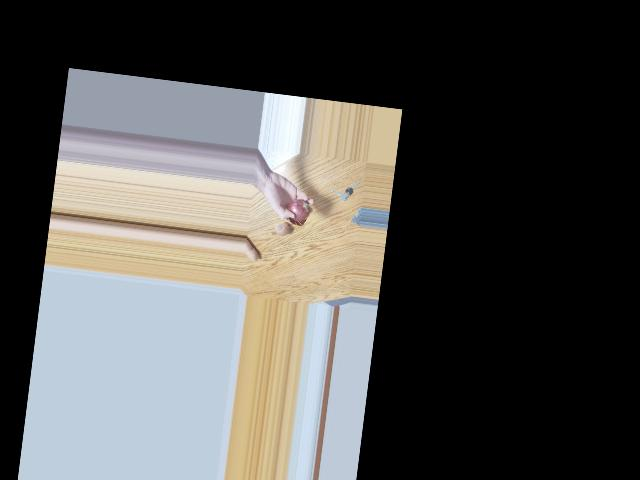onion: (273, 214, 291, 238)
